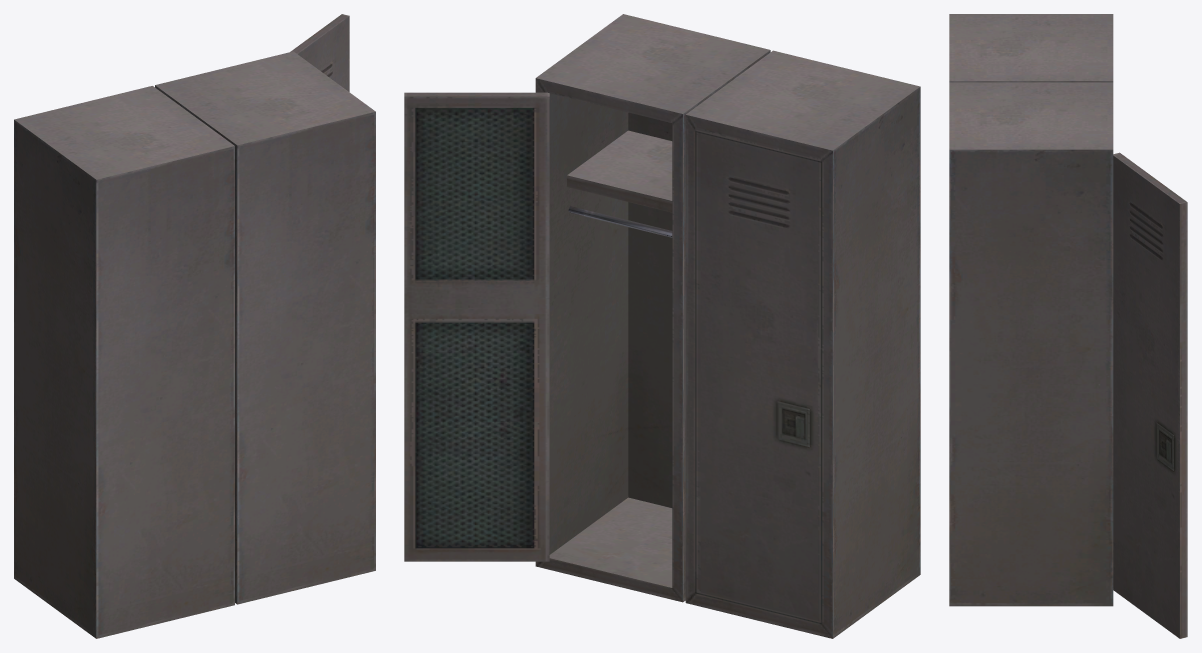
Rendered from Prop_Jjyg01.glb.
3 views of the same model, side by side, from view 1: azimuth 30°, elevation 25°; view 2: azimuth 150°, elevation 25°; view 3: azimuth 270°, elevation 25° (orthographic). The views are drawn at different scales.
Visible parts, largest first — view 1: xiutz_jjyg_01; view 2: xiutz_jjyg_01; view 3: xiutz_jjyg_01.
Part boxes in pixels (box(x1,y1,x2,y2)): xiutz_jjyg_01: box(14, 14, 375, 638); xiutz_jjyg_01: box(404, 14, 920, 638); xiutz_jjyg_01: box(949, 14, 1187, 638).
Size of the model in its own units: 2.53 by 3.01 by 1.42.
Materials: 1 (1 with a texture image).
